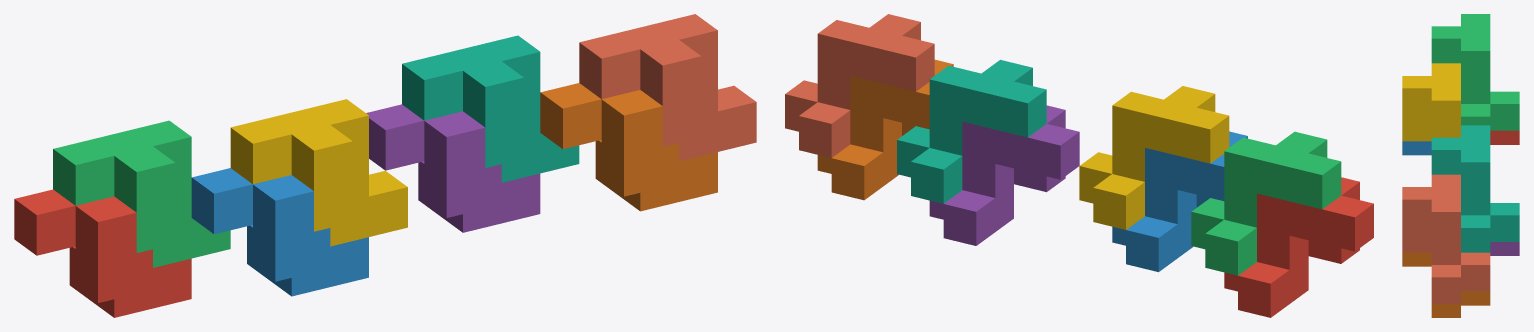
The model's file is tiling.obj.
3 renders of one model, left to right at view 1: azimuth 30°, elevation 25°; view 2: azimuth 150°, elevation 25°; view 3: azimuth 270°, elevation 25°, orthographic. The views are drawn at different scales.
Parts seen in each view (by area): view 1: copy_1_domain_8, copy_1_domain_4, copy_1_domain_7, copy_1_domain_3, copy_1_domain_1, copy_1_domain_6, copy_1_domain_2, copy_1_domain_5; view 2: copy_1_domain_7, copy_1_domain_3, copy_1_domain_8, copy_1_domain_4, copy_1_domain_5, copy_1_domain_1, copy_1_domain_6, copy_1_domain_2; view 3: copy_1_domain_8, copy_1_domain_7, copy_1_domain_3, copy_1_domain_4, copy_1_domain_6, copy_1_domain_1, copy_1_domain_2, copy_1_domain_5.
Boxes of the visible parts, x1,y1,x2,y2 form: copy_1_domain_8: (579, 14, 756, 161); copy_1_domain_4: (230, 99, 407, 246); copy_1_domain_7: (402, 35, 579, 182); copy_1_domain_3: (53, 120, 230, 267); copy_1_domain_1: (14, 189, 191, 317); copy_1_domain_6: (540, 83, 717, 211); copy_1_domain_2: (191, 168, 368, 296); copy_1_domain_5: (366, 104, 540, 232); copy_1_domain_7: (897, 59, 1046, 203); copy_1_domain_3: (1191, 131, 1341, 275); copy_1_domain_8: (785, 14, 934, 157); copy_1_domain_4: (1079, 86, 1229, 229); copy_1_domain_5: (929, 105, 1079, 245); copy_1_domain_1: (1224, 177, 1373, 317); copy_1_domain_6: (817, 59, 953, 200); copy_1_domain_2: (1112, 131, 1247, 272); copy_1_domain_8: (1402, 174, 1490, 303); copy_1_domain_7: (1431, 125, 1519, 252); copy_1_domain_3: (1431, 14, 1519, 130); copy_1_domain_4: (1402, 63, 1460, 141); copy_1_domain_6: (1402, 252, 1490, 317); copy_1_domain_1: (1490, 130, 1519, 144); copy_1_domain_2: (1402, 141, 1431, 155); copy_1_domain_5: (1490, 242, 1519, 255).
Bounding box in the file's own units: 18 × 4 × 4.
